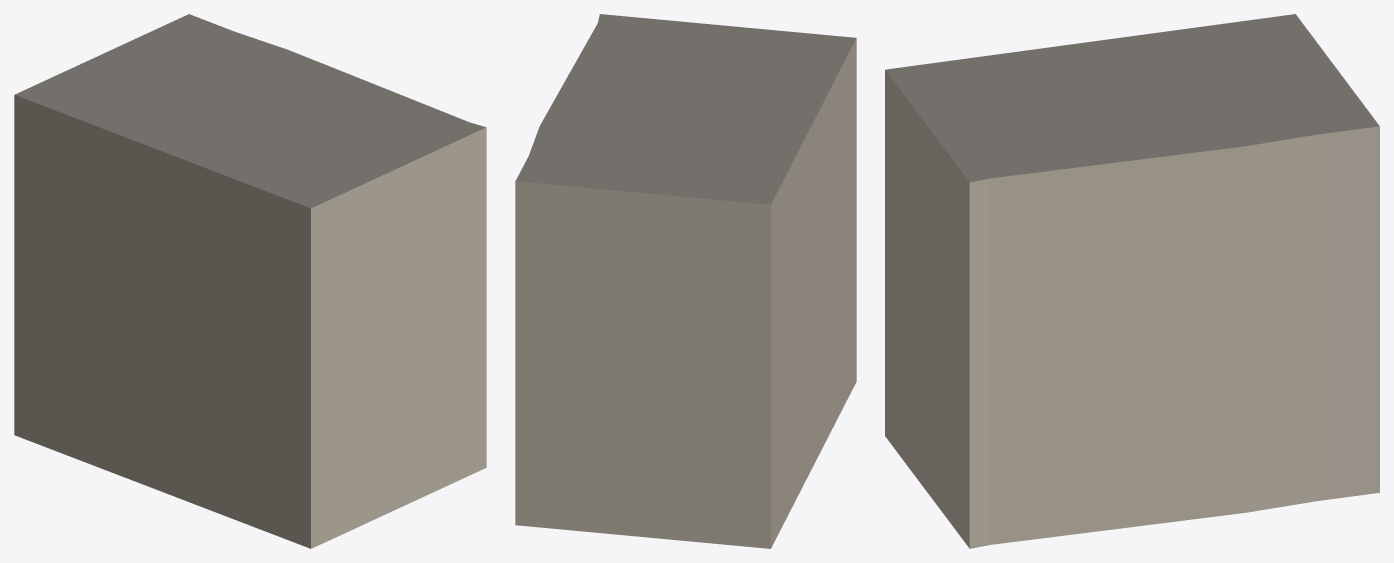
The picture shows the model from 3 angles, left to right: view 1: azimuth 30°, elevation 25°; view 2: azimuth 150°, elevation 25°; view 3: azimuth 270°, elevation 25°; orthographic projection. The views are drawn at different scales.
Parts seen in each view (by area): view 1: HP-w446933513; view 2: HP-w446933513; view 3: HP-w446933513.
Part boxes in pixels (bbox=[...]): HP-w446933513: bbox=[14, 14, 486, 548]; HP-w446933513: bbox=[515, 14, 856, 548]; HP-w446933513: bbox=[885, 14, 1379, 548].
Size of the model in its own units: 17.74 by 18 by 22.02.
